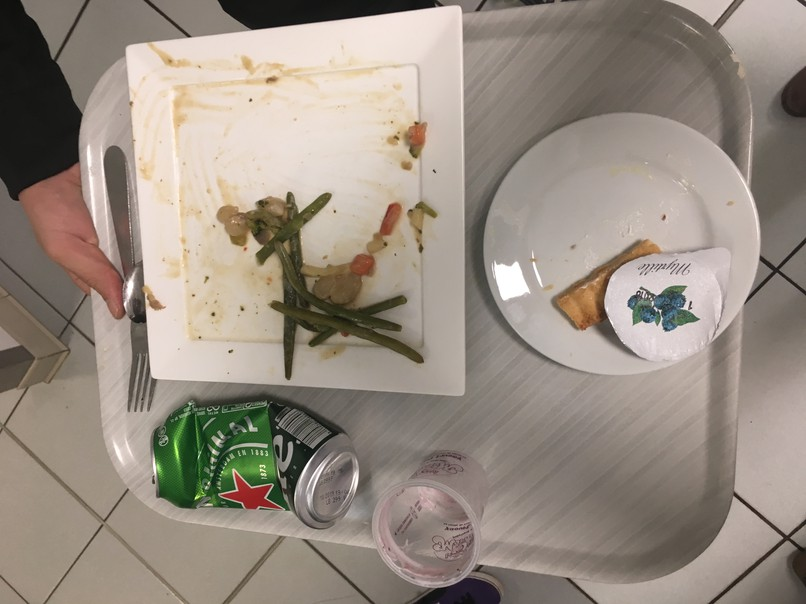orga: (221, 184, 434, 392)
trash: (150, 389, 364, 539), (366, 437, 499, 592), (609, 252, 731, 353)
